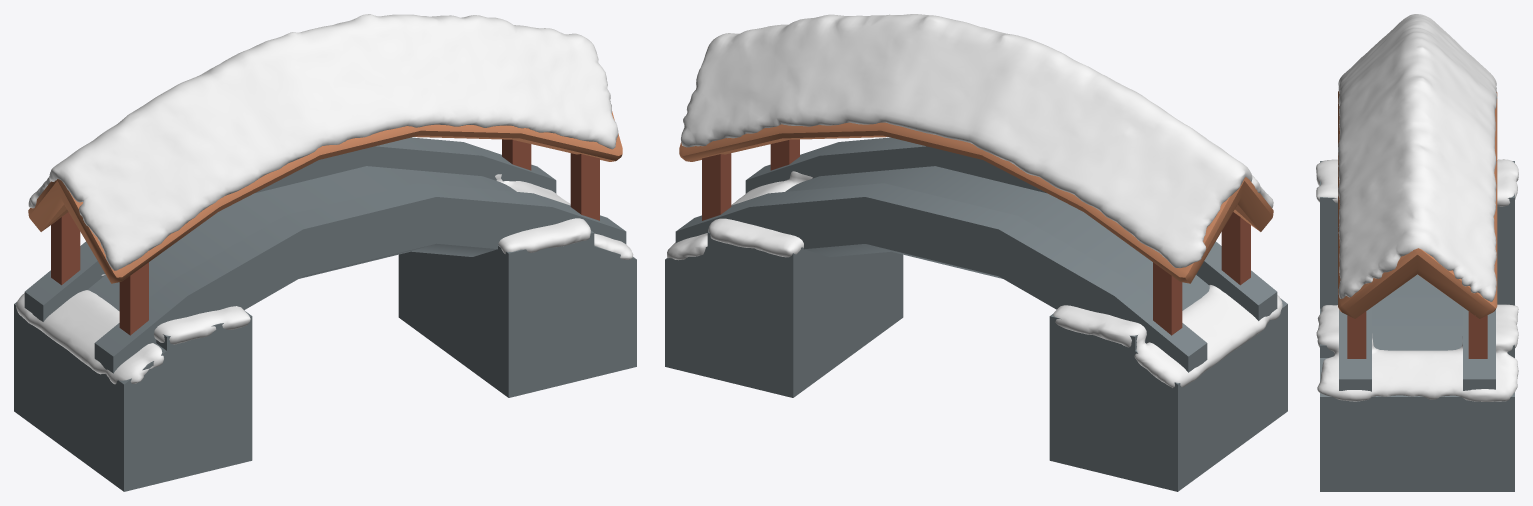
The model's file is bridge_roofedA.fbx.
3 views of the same model, side by side, from view 1: azimuth 30°, elevation 25°; view 2: azimuth 150°, elevation 25°; view 3: azimuth 270°, elevation 25° (orthographic). The views are drawn at different scales.
Parts seen in each view (by area): view 1: SnowBall.001, bridge_roofed, bridge_roofed.002, bridge_roofed.001, bridge_roofed.007, SnowBall.003, SnowBall.002, bridge_roofed.005, bridge_roofed.003, bridge_roofed.004, bridge_roofed.006; view 2: SnowBall.001, bridge_roofed, bridge_roofed.002, bridge_roofed.001, bridge_roofed.007, SnowBall.003, SnowBall.002, bridge_roofed.006, bridge_roofed.004, bridge_roofed.003, bridge_roofed.005; view 3: SnowBall.001, bridge_roofed, bridge_roofed.002, SnowBall.002, bridge_roofed.007, bridge_roofed.001, SnowBall.003, bridge_roofed.005, bridge_roofed.006.
Boxes of the visible parts, x1,y1,x2,y2 form: SnowBall.001: (28, 14, 618, 270); bridge_roofed: (24, 137, 626, 411); bridge_roofed.002: (398, 230, 636, 397); bridge_roofed.001: (14, 302, 252, 491); bridge_roofed.007: (28, 111, 622, 283); SnowBall.003: (16, 274, 250, 384); SnowBall.002: (487, 149, 633, 259); bridge_roofed.005: (570, 153, 599, 220); bridge_roofed.003: (51, 212, 80, 285); bridge_roofed.004: (119, 262, 148, 335); bridge_roofed.006: (502, 139, 531, 170); SnowBall.001: (681, 14, 1273, 267); bridge_roofed: (675, 137, 1277, 404); bridge_roofed.002: (665, 232, 903, 397); bridge_roofed.001: (1049, 298, 1287, 491); bridge_roofed.007: (679, 122, 1273, 283); SnowBall.003: (1053, 285, 1282, 387); SnowBall.002: (667, 171, 812, 260); bridge_roofed.006: (702, 153, 731, 220); bridge_roofed.004: (1221, 212, 1250, 285); bridge_roofed.003: (1153, 262, 1182, 335); bridge_roofed.005: (770, 139, 799, 170); SnowBall.001: (1338, 14, 1497, 301); bridge_roofed: (1339, 274, 1495, 444); bridge_roofed.002: (1320, 308, 1514, 491); SnowBall.002: (1316, 304, 1518, 401); bridge_roofed.007: (1338, 91, 1497, 318); bridge_roofed.001: (1320, 161, 1514, 308); SnowBall.003: (1316, 159, 1518, 206); bridge_roofed.005: (1347, 311, 1366, 358); bridge_roofed.006: (1468, 311, 1487, 358).
Size of the model in its own units: 210 by 135 by 77.47.
